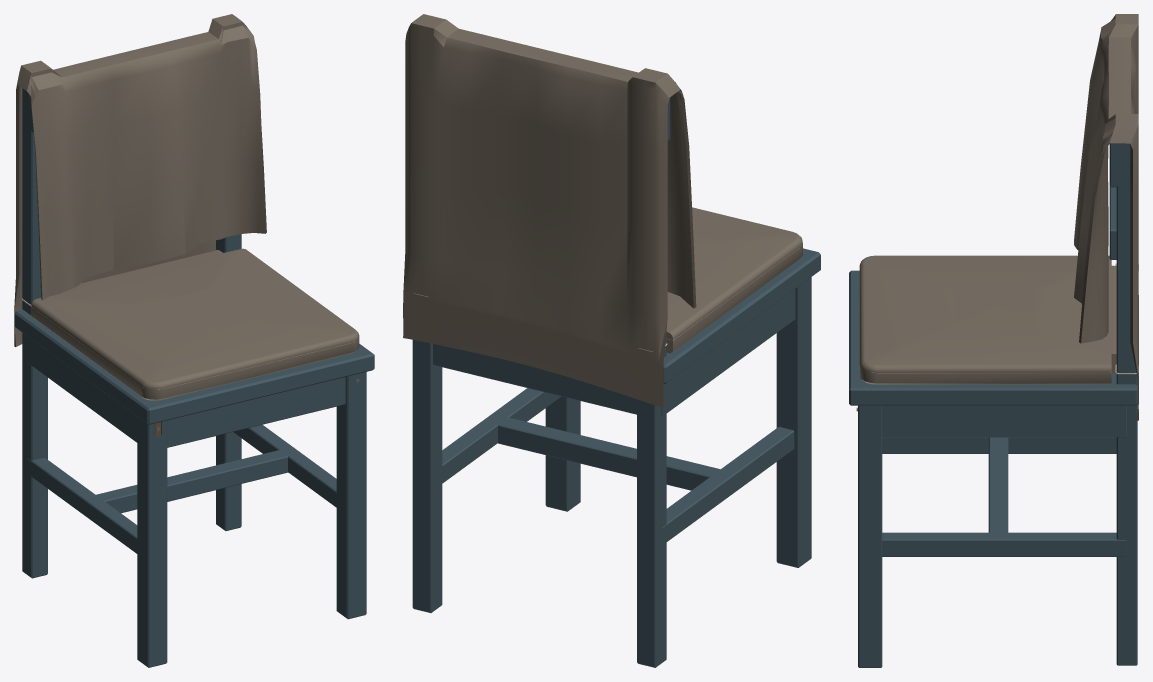
The model's file is kitchen-chair-blue-bffae8cbfd77.glb.
3 renders of one model, left to right at view 1: azimuth 30°, elevation 25°; view 2: azimuth 150°, elevation 25°; view 3: azimuth 270°, elevation 25°, orthographic. The views are drawn at different scales.
Parts seen in each view (by area): view 1: cover-print, enamel-blue, fabric, paper; view 2: cover-print, enamel-blue, fabric; view 3: cover-print, enamel-blue, fabric, paper.
Boxes of the visible parts, x1=… form: cover-print: x1=15, y1=14, x2=359, y2=399; enamel-blue: x1=14, y1=88, x2=374, y2=667; fabric: x1=14, y1=25, x2=266, y2=346; paper: x1=21, y1=298, x2=355, y2=400; cover-print: x1=403, y1=14, x2=802, y2=407; enamel-blue: x1=403, y1=97, x2=820, y2=667; fabric: x1=663, y1=89, x2=696, y2=407; cover-print: x1=859, y1=14, x2=1138, y2=413; enamel-blue: x1=849, y1=143, x2=1137, y2=667; fabric: x1=1079, y1=143, x2=1138, y2=420; paper: x1=860, y1=263, x2=1138, y2=384.
Bounding box in the file's own units: 0.4 × 0.85 × 0.4118.
